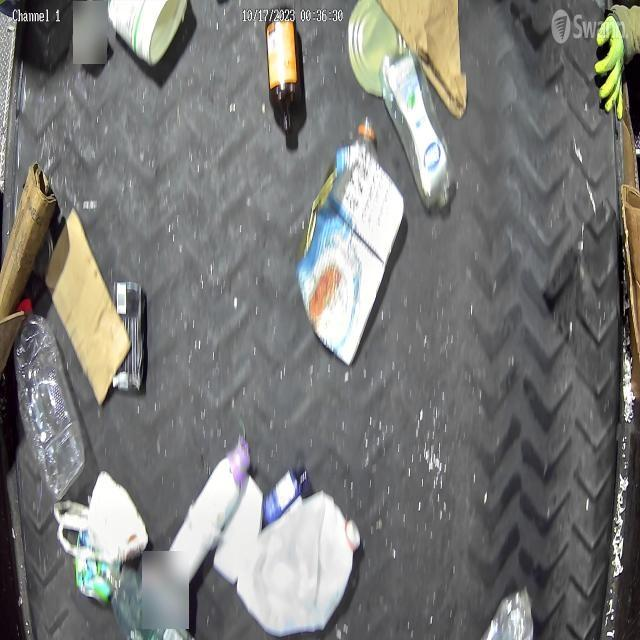milk_jug: (237, 490, 361, 636)
plastic_bottle: (16, 304, 86, 501), (384, 52, 456, 207)
